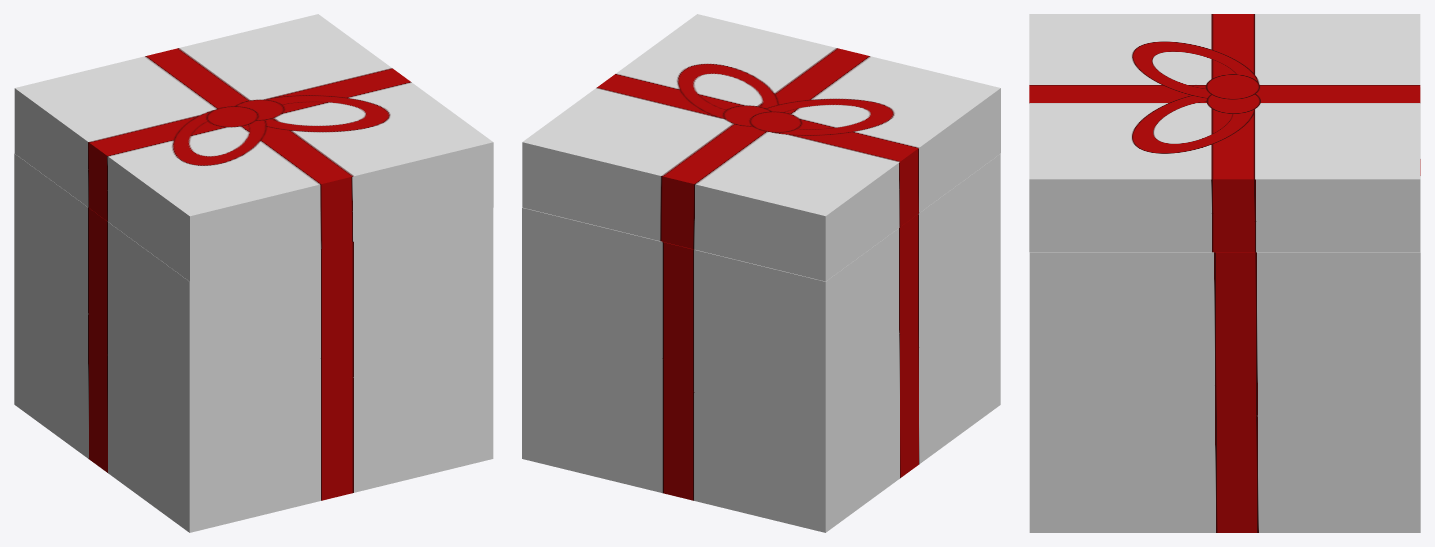
The model's file is present.fbx.
3 renders of one model, left to right at view 1: azimuth 30°, elevation 25°; view 2: azimuth 150°, elevation 25°; view 3: azimuth 270°, elevation 25°, orthographic. The views are drawn at different scales.
Visible parts, largest first — view 1: Cube, Cube.001; view 2: Cube, Cube.001; view 3: Cube, Cube.001.
Part boxes in pixels (x1,y1,x2,y2): Cube: [14, 153, 493, 532]; Cube.001: [14, 14, 493, 281]; Cube: [522, 154, 1000, 532]; Cube.001: [522, 14, 1000, 281]; Cube: [1029, 87, 1420, 532]; Cube.001: [1029, 14, 1420, 252].
Size of the model in its own units: 105 by 105 by 105.
